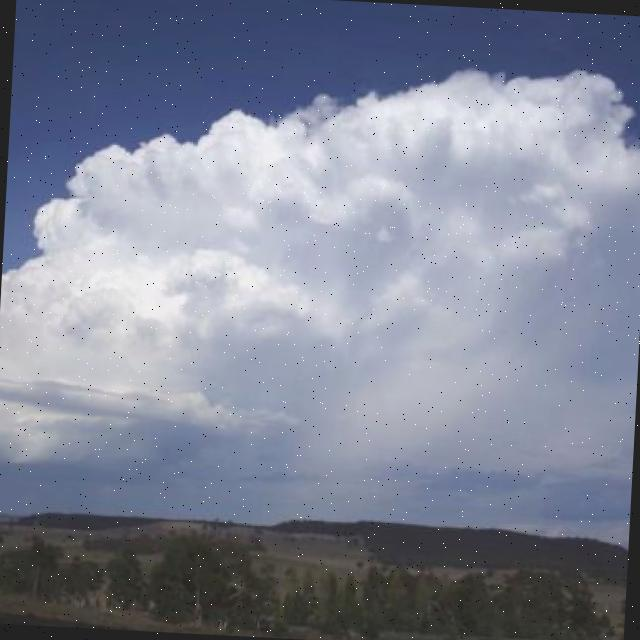Cb: (1, 36, 640, 487)
